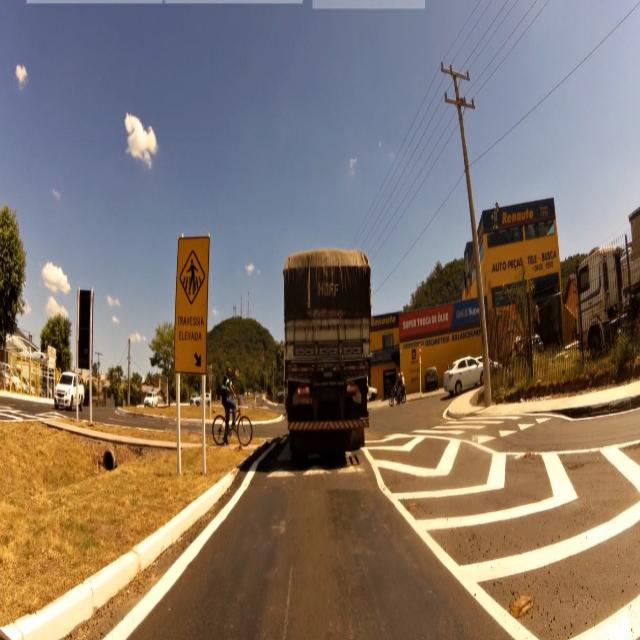A-32b: (178, 246, 207, 307)
